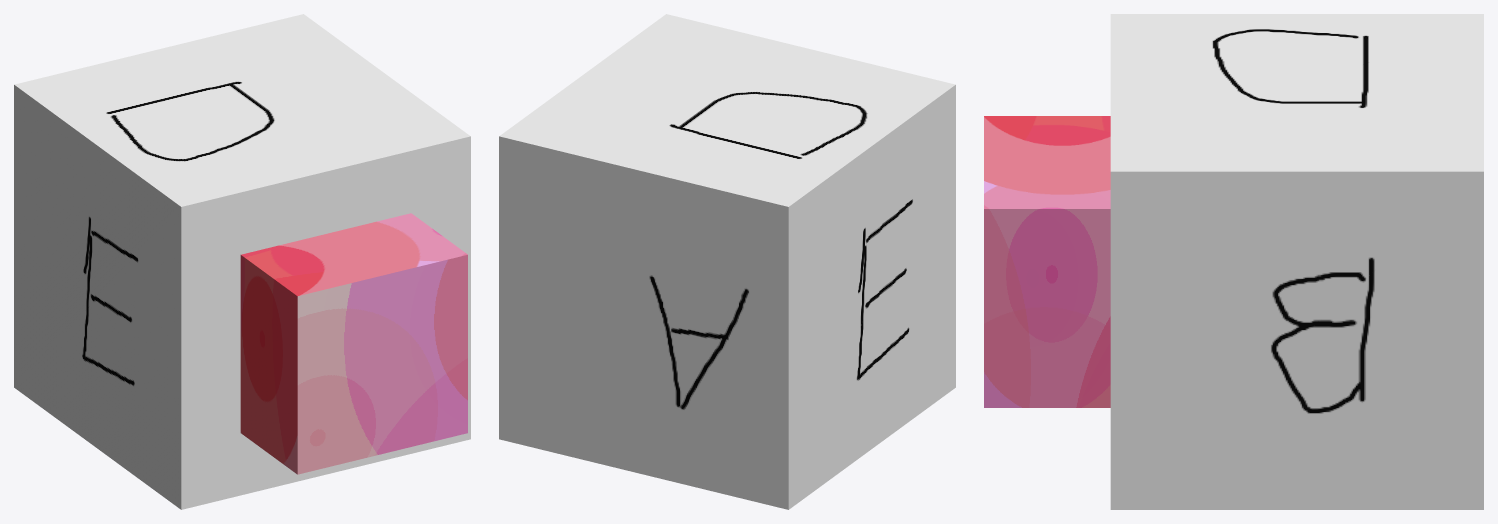
The model's file is box_with_texture.glb.
The picture shows the model from 3 angles, left to right: view 1: azimuth 30°, elevation 25°; view 2: azimuth 150°, elevation 25°; view 3: azimuth 270°, elevation 25°; orthographic projection. The views are drawn at different scales.
Visible parts, largest first — view 1: Cube, Cube.001; view 2: Cube; view 3: Cube, Cube.001.
Boxes of the visible parts, box(x1,y1,x2,y2) form: Cube: box(14, 14, 470, 509); Cube.001: box(240, 213, 467, 474); Cube: box(499, 14, 955, 509); Cube: box(1110, 14, 1483, 509); Cube.001: box(984, 116, 1110, 407).
Bounding box in the file's own units: 2 × 2 × 2.68.
2 materials, 2 textured.
